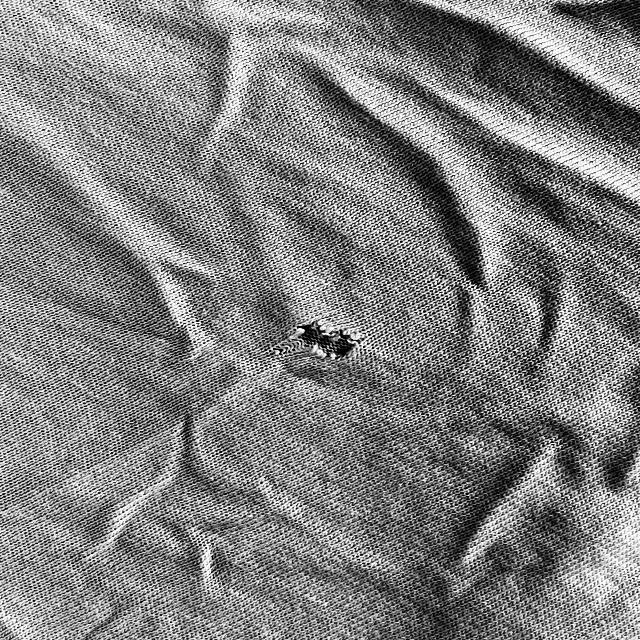Hole: (278, 312, 383, 374)
